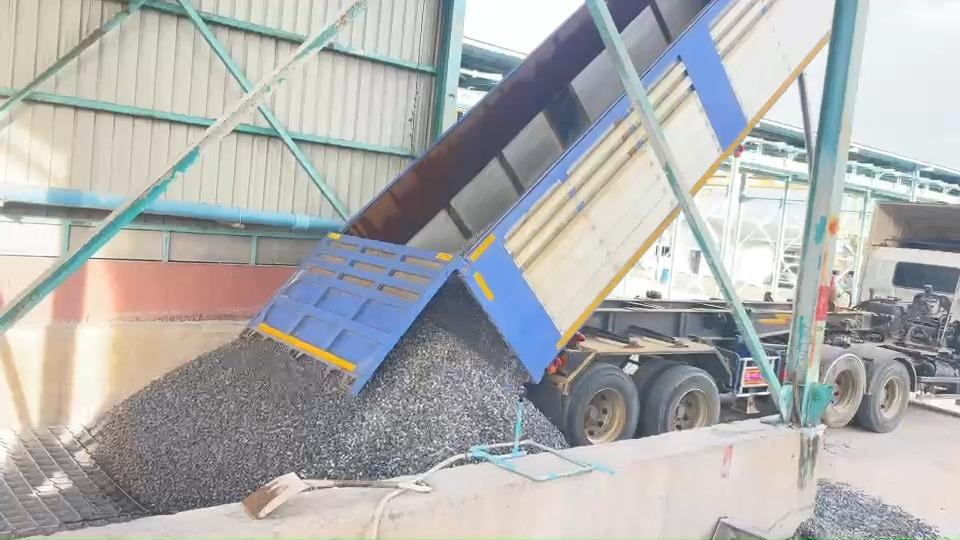gravel: (90, 287, 526, 511), (794, 480, 939, 537), (525, 404, 565, 445)
